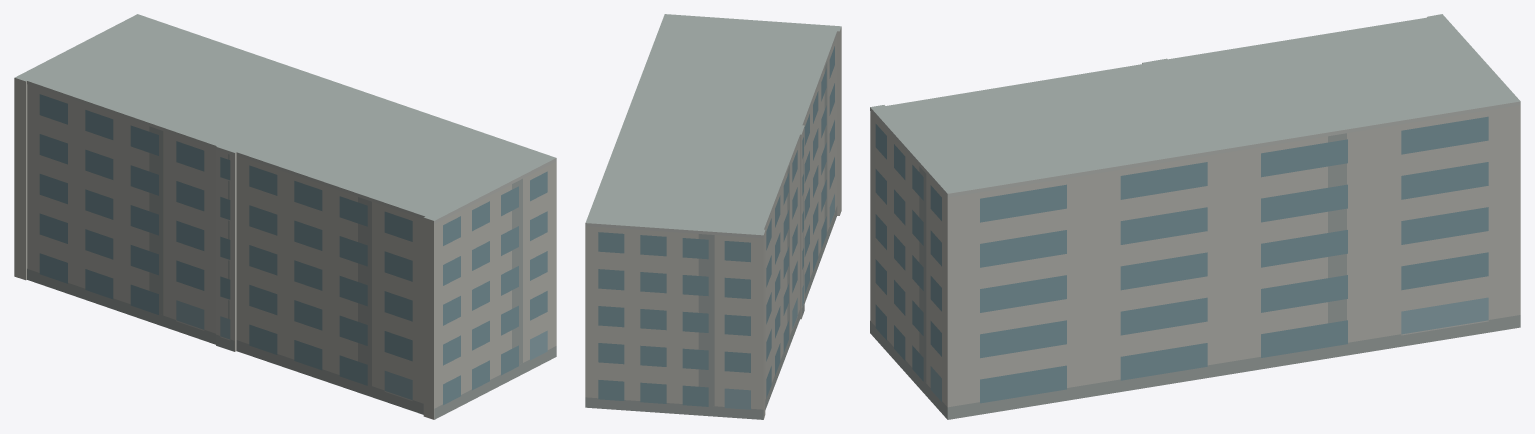
The model's file is survey-upis-32526749.glb.
3 renders of one model, left to right at view 1: azimuth 30°, elevation 25°; view 2: azimuth 150°, elevation 25°; view 3: azimuth 270°, elevation 25°, orthographic. The views are drawn at different scales.
Visible parts, largest first — view 1: survey-upis-32526749.tmp; view 2: survey-upis-32526749.tmp; view 3: survey-upis-32526749.tmp.
Boxes of the visible parts, bbox=[...] form: survey-upis-32526749.tmp: bbox=[14, 14, 556, 419]; survey-upis-32526749.tmp: bbox=[585, 14, 841, 419]; survey-upis-32526749.tmp: bbox=[870, 14, 1520, 419].
Size of the model in its own units: 24.92 by 14.6 by 38.09.
